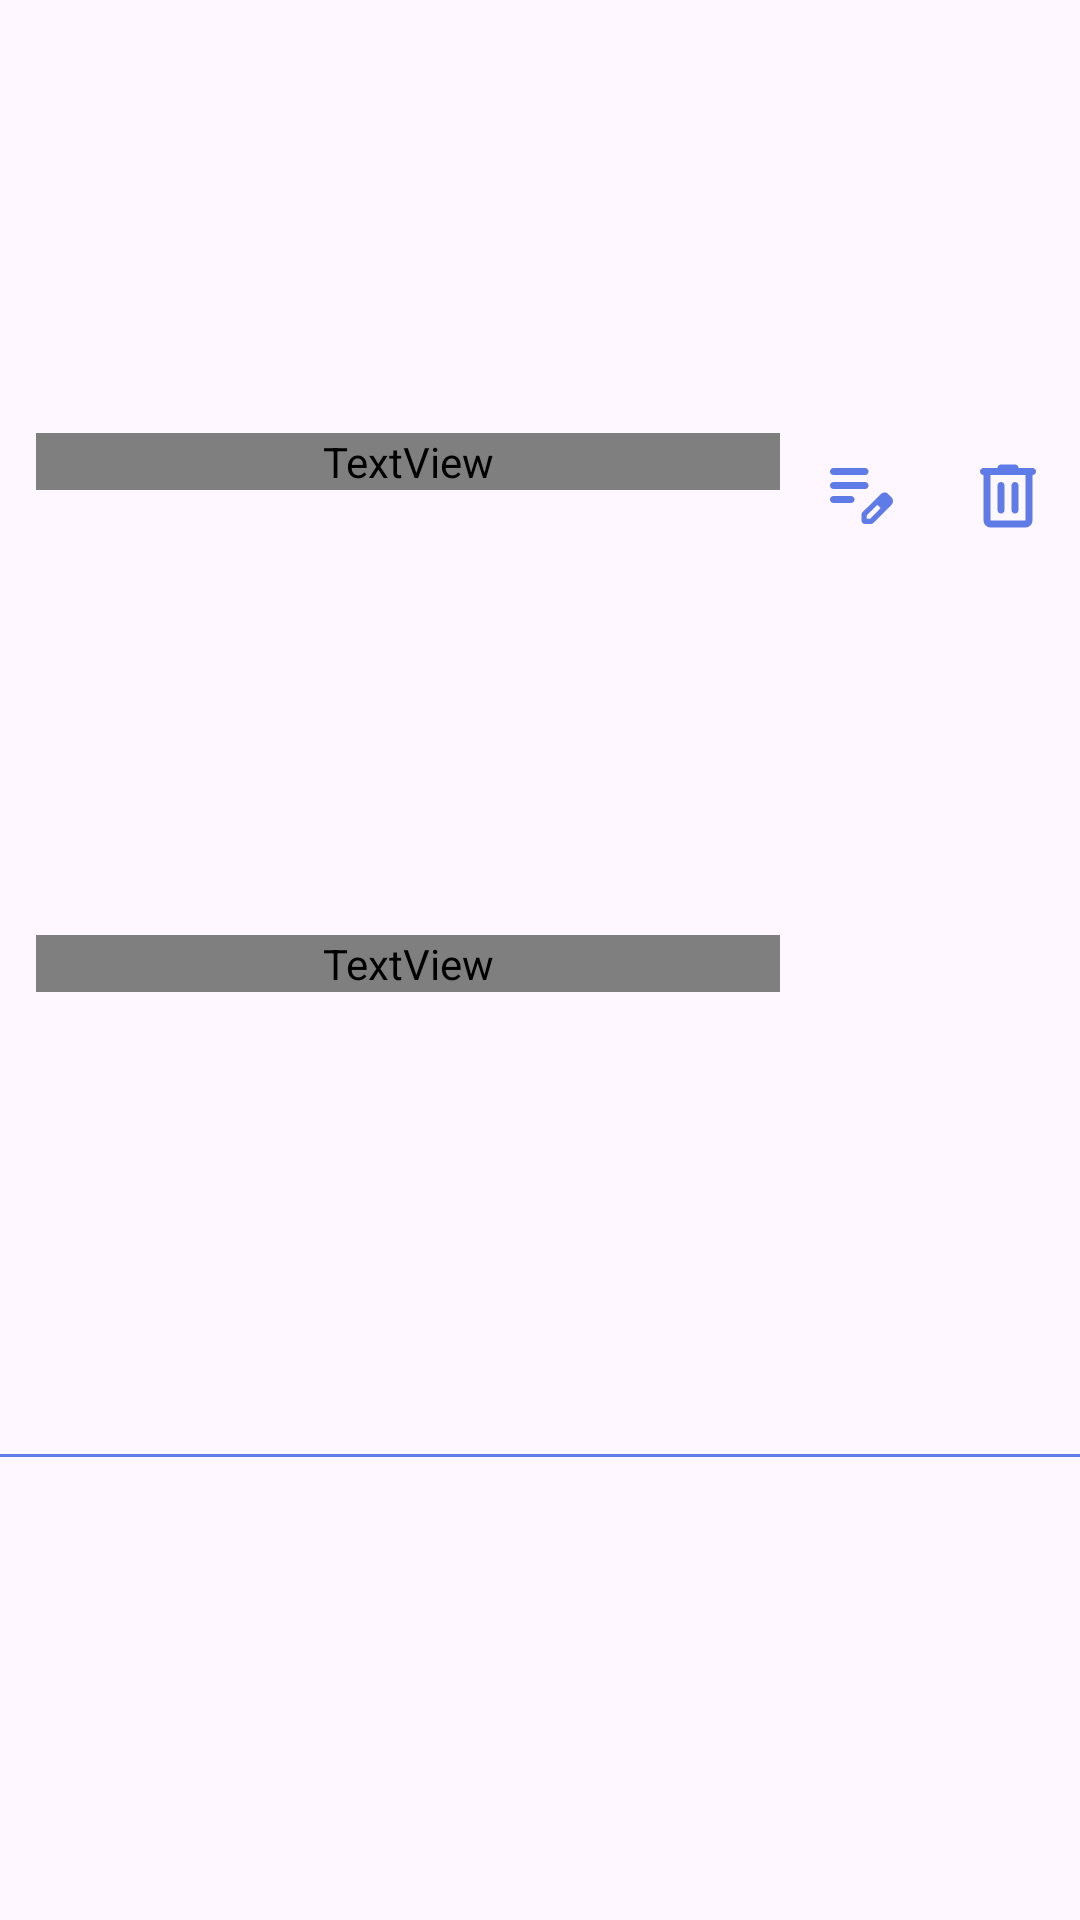

Where icons sit on this 1080px×1920px app screen, as (x1, y1, x2, y2):
delete: (980, 464, 1036, 528)
edit note: (830, 468, 893, 524)
